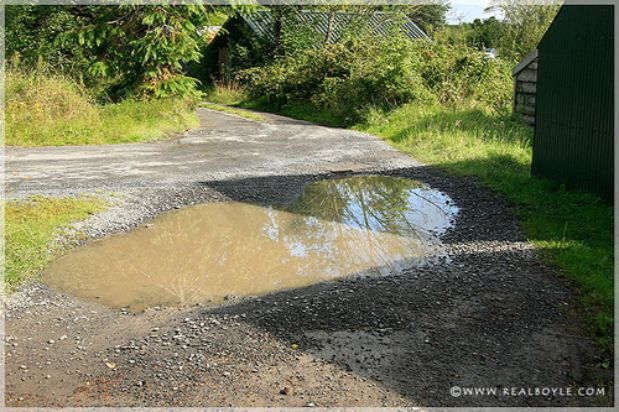pothole: (39, 166, 462, 312)
